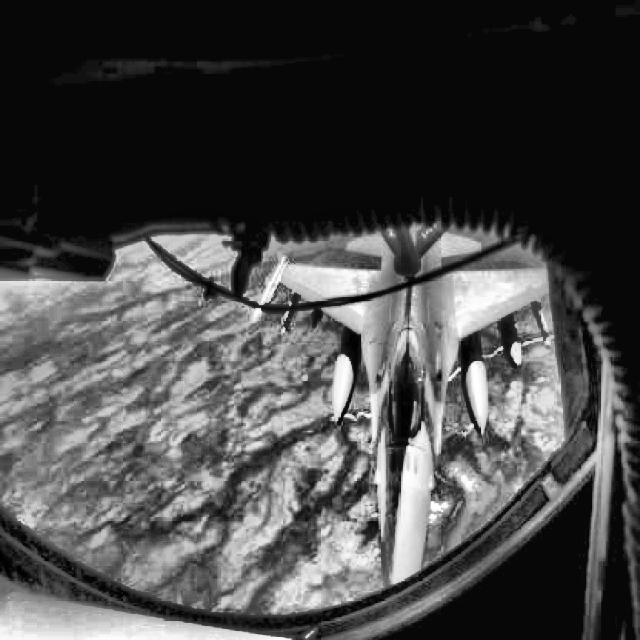F16: (252, 220, 552, 588)
